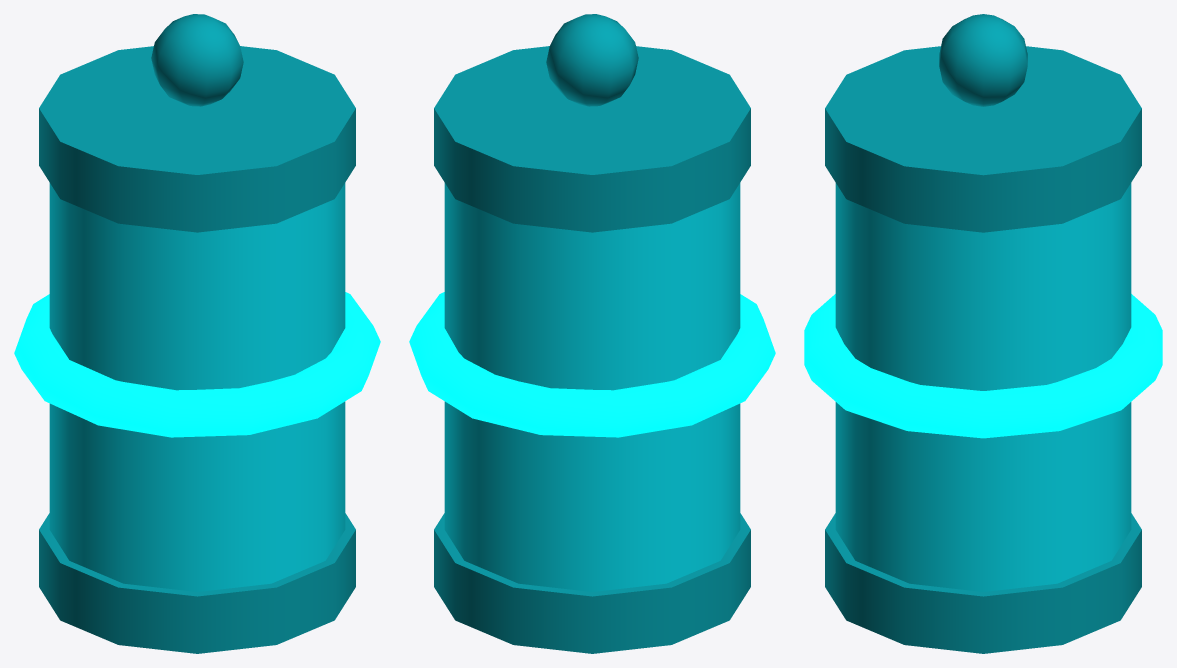
File: baterias_alquimicas.glb
3 views of the same model, side by side, from view 1: azimuth 30°, elevation 25°; view 2: azimuth 150°, elevation 25°; view 3: azimuth 270°, elevation 25° (orthographic).
Visible parts, largest first — view 1: Body, Detail, Glow; view 2: Body, Detail, Glow; view 3: Body, Detail, Glow.
Boxes of the visible parts, x1,y1,x2,y2 form: Body: (49, 183, 345, 591); Detail: (39, 14, 355, 653); Glow: (14, 292, 380, 437); Body: (444, 183, 740, 591); Detail: (434, 14, 750, 653); Glow: (409, 292, 775, 437); Body: (835, 183, 1131, 591); Detail: (825, 14, 1141, 653); Glow: (804, 294, 1162, 438).
Size of the model in its own units: 0.174 by 0.297 by 0.1696.
